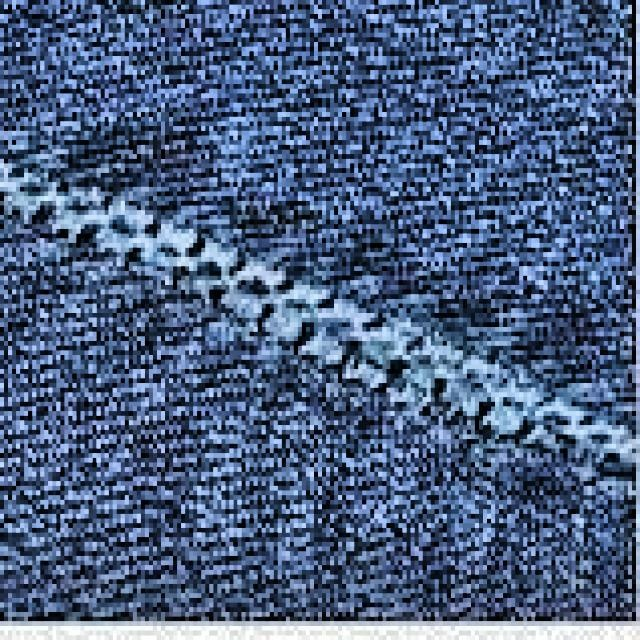seam: (1, 107, 632, 542)
